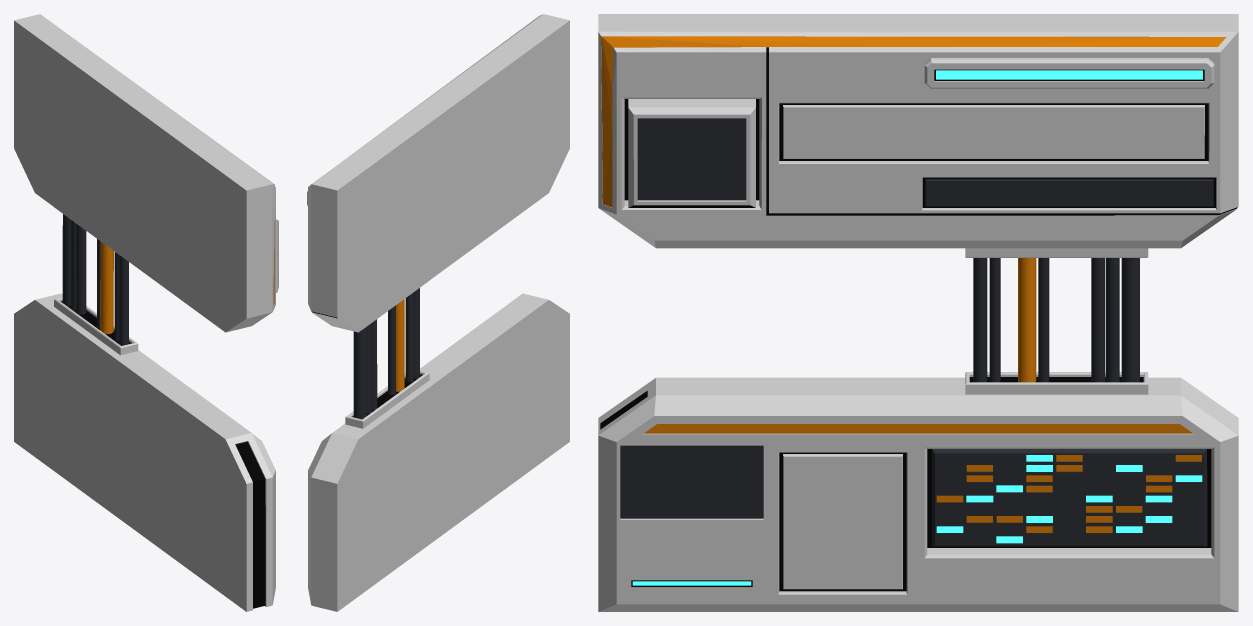
The model's file is SM_WallDecor_IndustrialGrate.glb.
3 views of the same model, side by side, from view 1: azimuth 30°, elevation 25°; view 2: azimuth 150°, elevation 25°; view 3: azimuth 270°, elevation 25° (orthographic). The views are drawn at different scales.
Parts seen in each view (by area): view 1: SM_WallDecor_IndustrialGrate.001; view 2: SM_WallDecor_IndustrialGrate.001; view 3: SM_WallDecor_IndustrialGrate.001.
Part boxes in pixels (x1,y1,x2,y2): SM_WallDecor_IndustrialGrate.001: (14,14,278,611); SM_WallDecor_IndustrialGrate.001: (307,14,569,611); SM_WallDecor_IndustrialGrate.001: (598,14,1238,611).
Bounding box in the file's own units: 0.4505 × 4 × 4.
